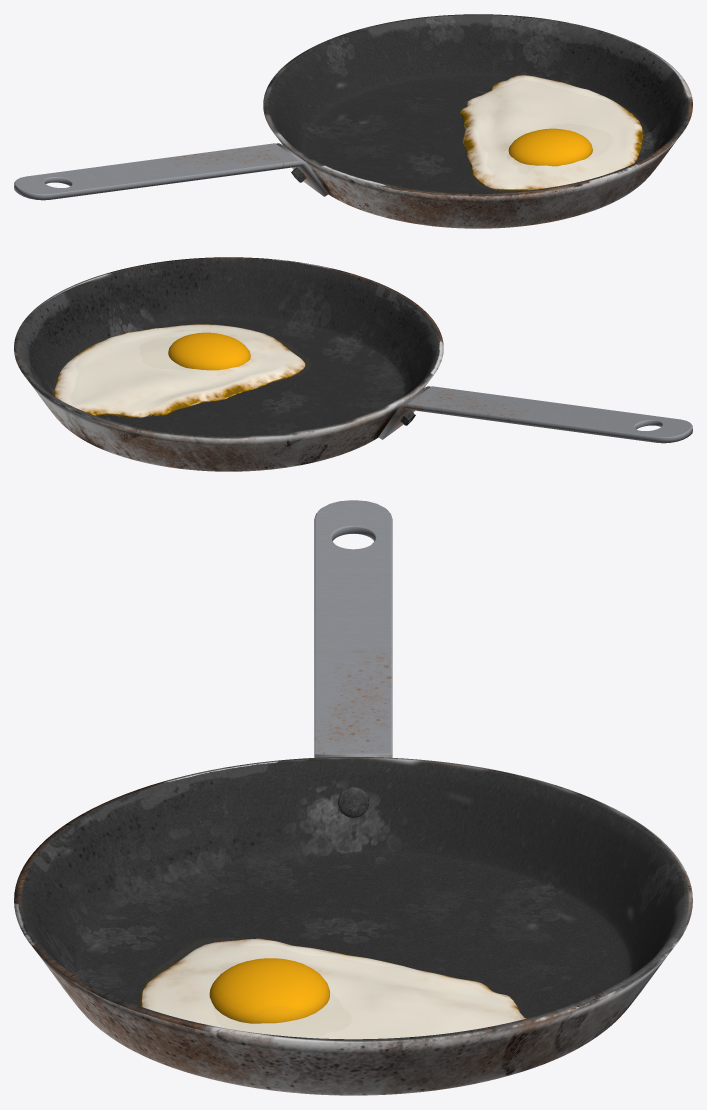
File: obj_eye_egg_de918c.glb
The picture shows the model from 3 angles, top to bottom: view 1: azimuth 30°, elevation 25°; view 2: azimuth 150°, elevation 25°; view 3: azimuth 270°, elevation 25°; orthographic projection. The views are drawn at different scales.
Parts seen in each view (by area): view 1: obj_eye_egg_de918c; view 2: obj_eye_egg_de918c; view 3: obj_eye_egg_de918c.
Part boxes in pixels (x1=…): obj_eye_egg_de918c: x1=14, y1=14, x2=692, y2=228; obj_eye_egg_de918c: x1=14, y1=257, x2=692, y2=471; obj_eye_egg_de918c: x1=14, y1=500, x2=692, y2=1095.
Bounding box in the file's own units: 0.45 × 0.0577 × 0.2592.
6 materials, 6 textured.
